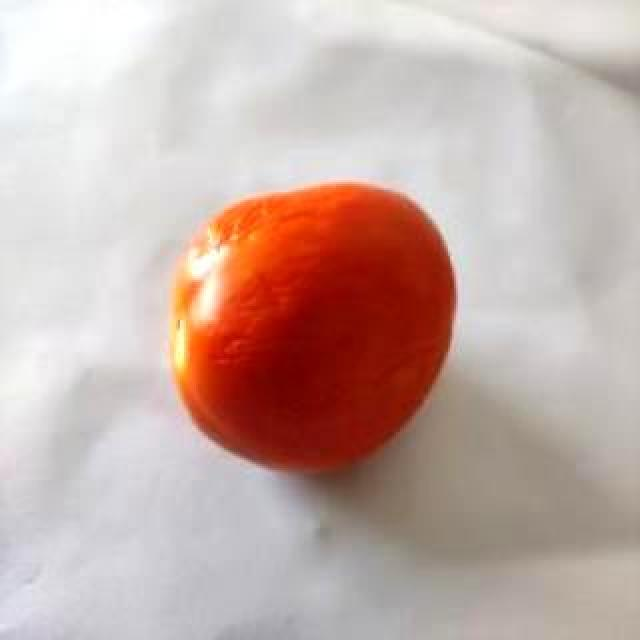Rotten_Tomato: (166, 178, 464, 478)
